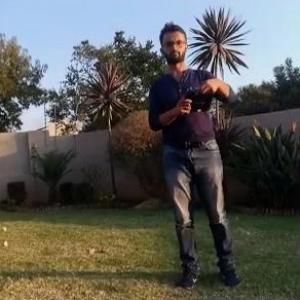follow: (144, 14, 245, 291)
